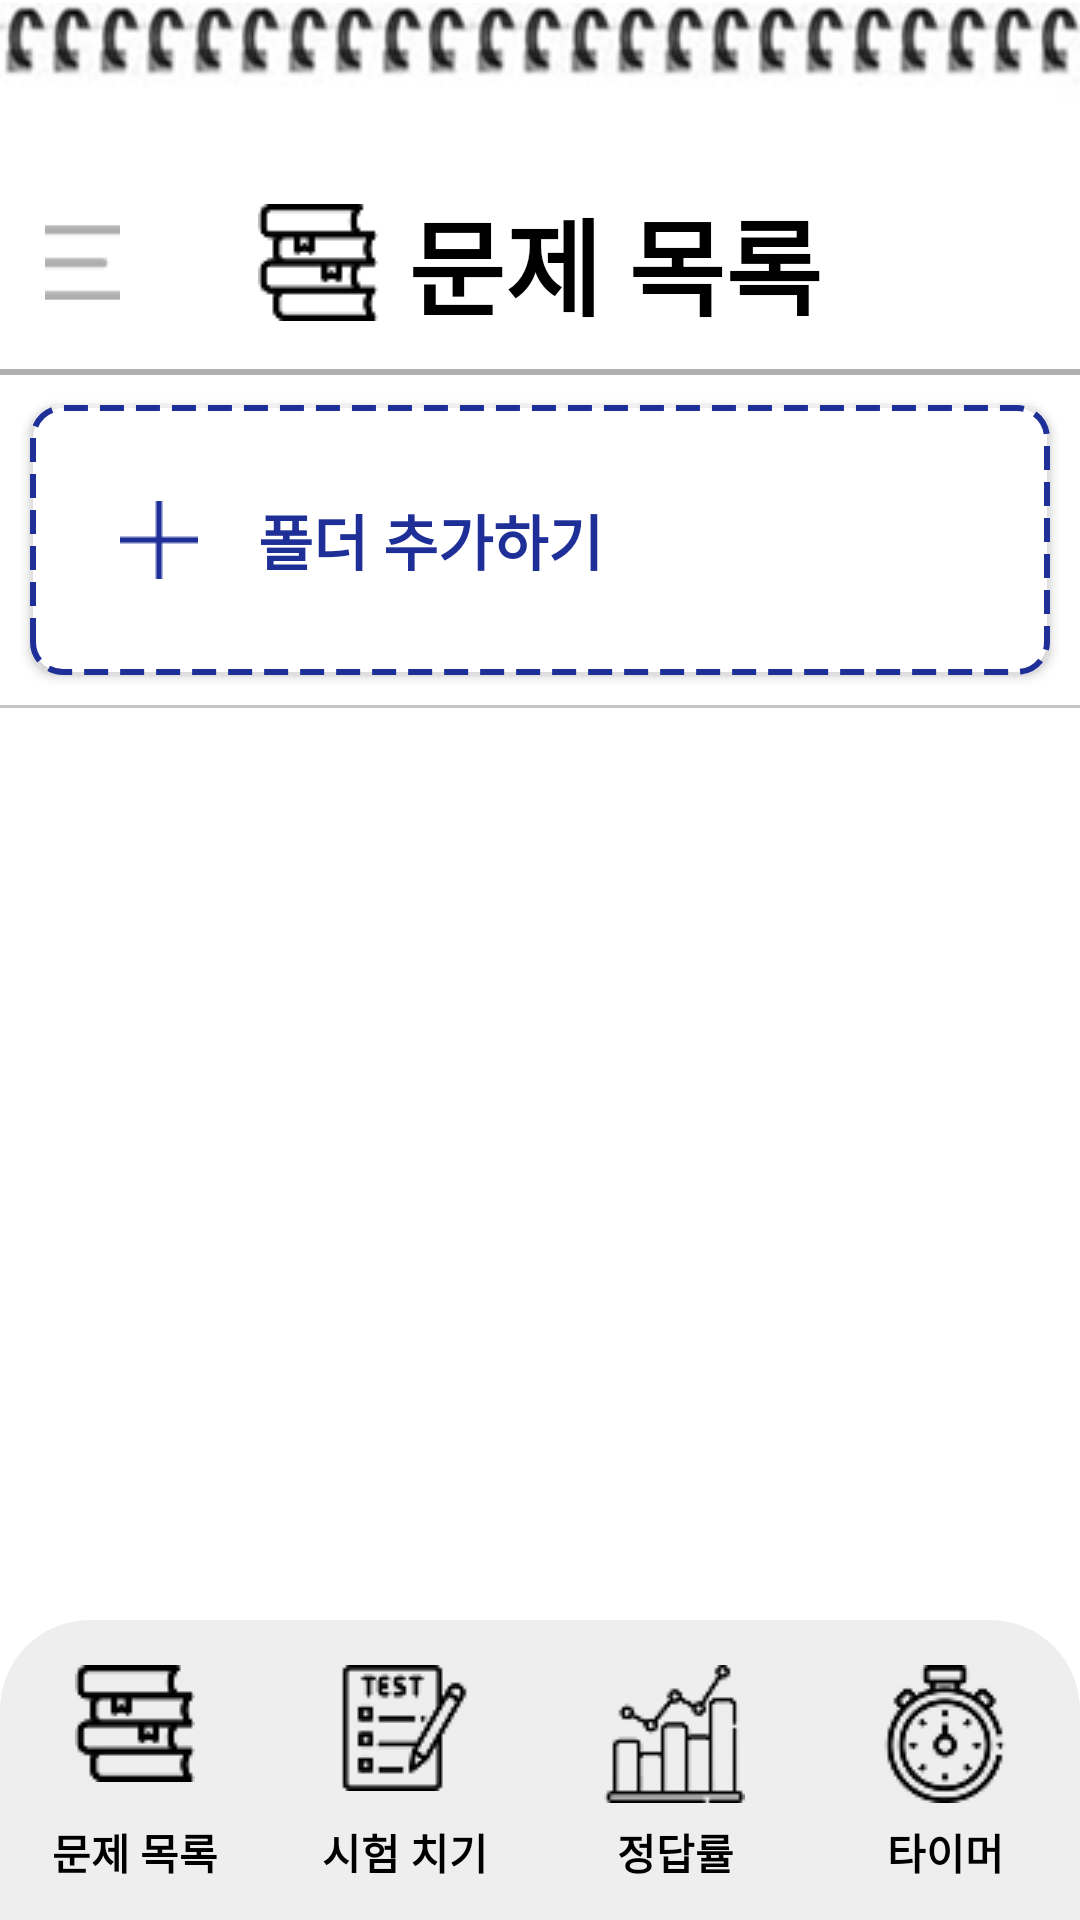

Locate icon controls on the screen. Image size 1080 × 1920, boxes as Rect(x1, y1, x2, y2).
hamburger: Rect(45, 225, 120, 300)
